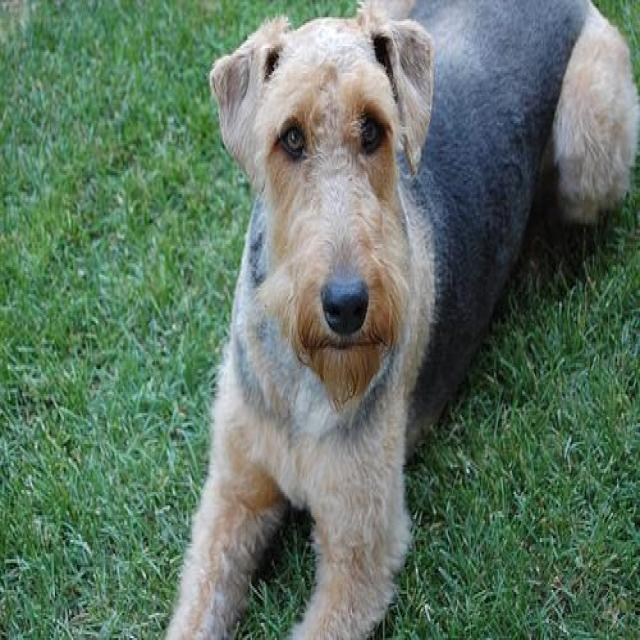airedale: (158, 0, 638, 638)
